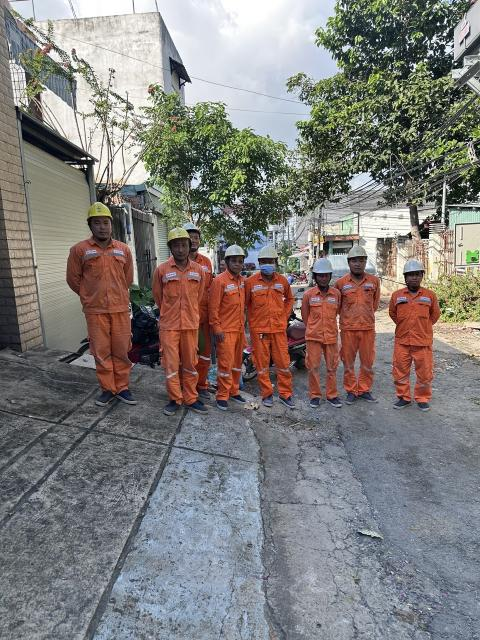helmet: (393, 248, 433, 282), (78, 197, 121, 223), (305, 249, 341, 277), (219, 237, 251, 263), (337, 243, 377, 262), (160, 223, 189, 247), (182, 217, 211, 238), (256, 244, 282, 263)
shoes: (403, 388, 439, 417), (387, 388, 416, 414), (95, 383, 119, 407), (158, 394, 185, 415), (277, 388, 300, 411), (117, 385, 143, 405), (212, 394, 233, 418), (341, 385, 361, 407), (358, 387, 380, 406), (301, 394, 324, 412), (257, 386, 278, 405), (327, 392, 346, 413), (183, 402, 212, 414), (231, 391, 249, 407), (198, 383, 212, 402)
